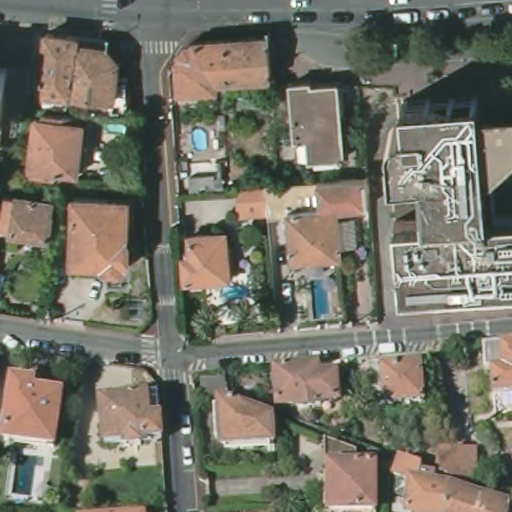pool: (307, 272, 333, 321), (189, 124, 212, 157), (215, 283, 250, 304), (106, 122, 131, 139)
